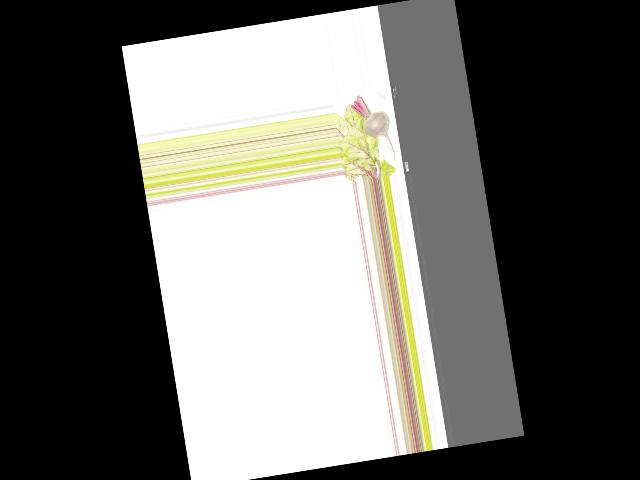beet: (349, 91, 396, 165)
